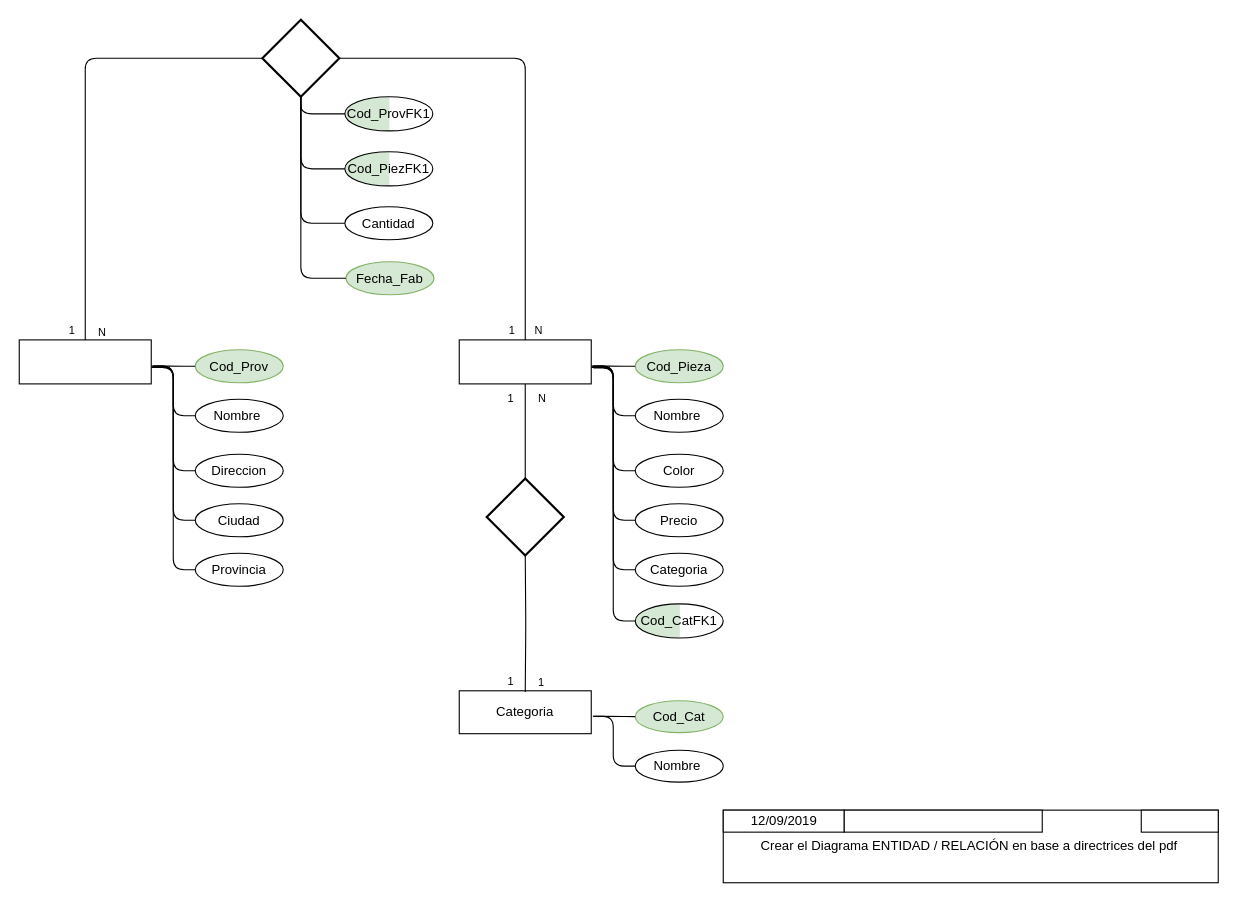
The diagram is 1238 pixels wide and 902 high, and some of its shapes have lost their labels. Each missing label, with the centre of its shape:
"1:N" belongs at point 524,516.
"N:M" belongs at point 300,57.
"Pieza" belongs at point 524,361.
"Proveedor" belongs at point 84,361.
"S1DAM" belongs at point 1179,820.
"Tarea 1 . DDBB" belongs at point 942,820.
